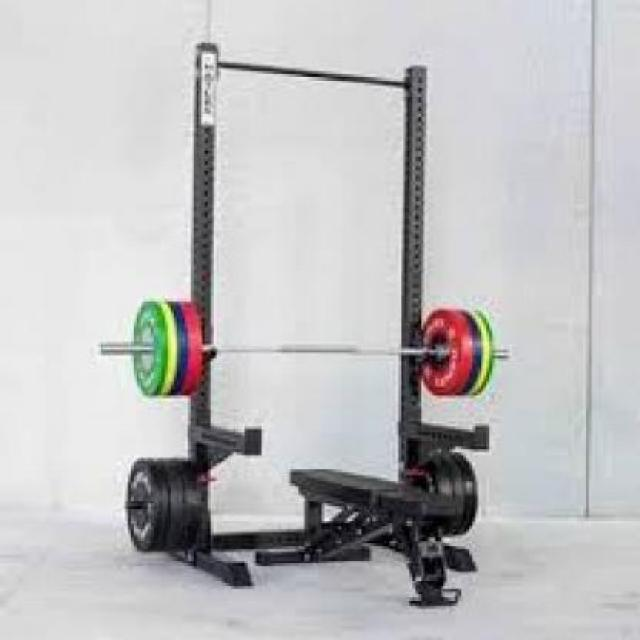smith machine: (100, 38, 512, 610)
